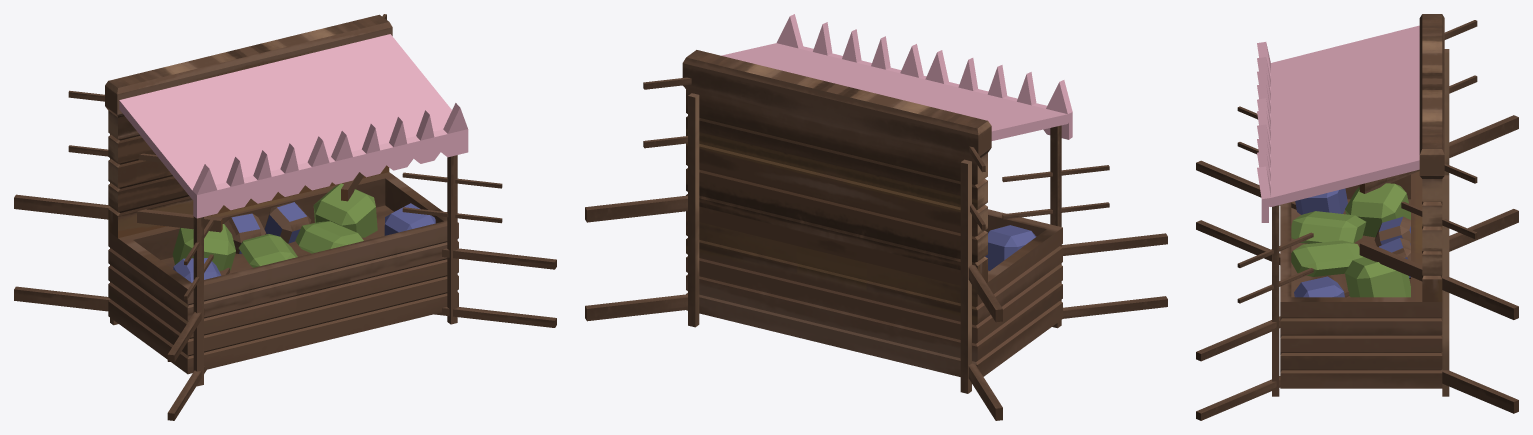
File: hardFarmStand.fbx
The picture shows the model from 3 angles, left to right: view 1: azimuth 30°, elevation 25°; view 2: azimuth 150°, elevation 25°; view 3: azimuth 270°, elevation 25°; orthographic projection. The views are drawn at different scales.
Visible parts, largest first — view 1: evilFarmStand; view 2: evilFarmStand; view 3: evilFarmStand.
Boxes of the visible parts, x1=… form: evilFarmStand: x1=14, y1=14, x2=556, y2=420; evilFarmStand: x1=585, y1=14, x2=1167, y2=420; evilFarmStand: x1=1196, y1=14, x2=1518, y2=420.
Size of the model in its own units: 201 by 121 by 142.
